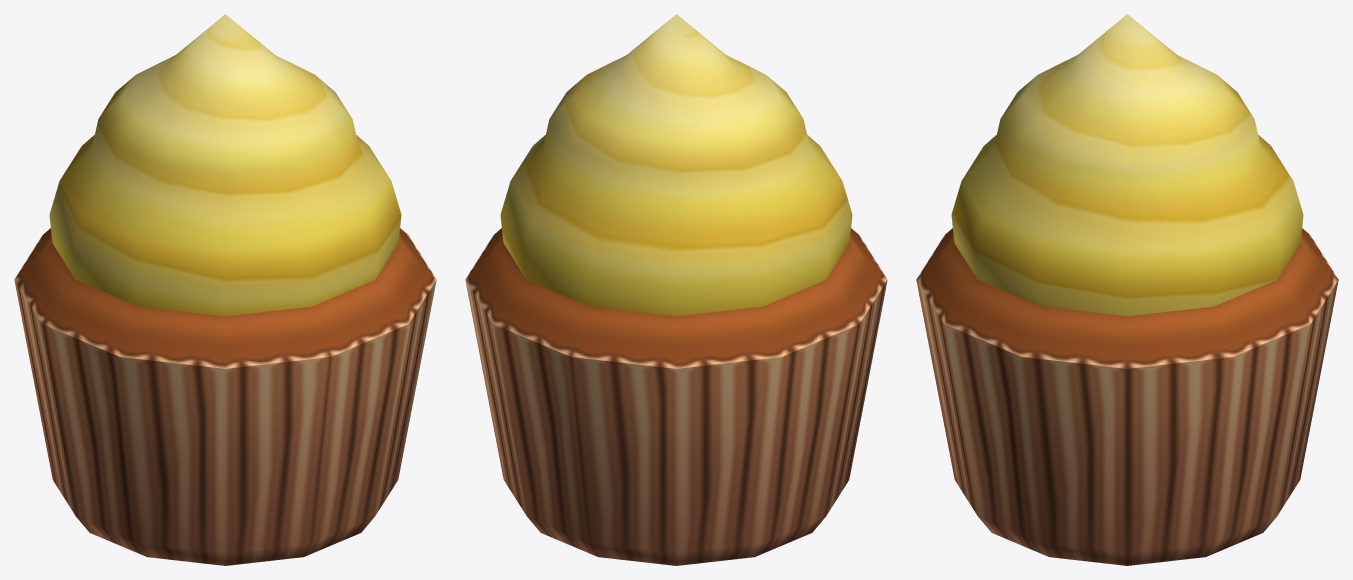
Rendered from 009-Cupcakes_008.FBX.
3 views of the same model, side by side, from view 1: azimuth 30°, elevation 25°; view 2: azimuth 150°, elevation 25°; view 3: azimuth 270°, elevation 25° (orthographic).
Parts seen in each view (by area): view 1: 009-Cupcakes_008; view 2: 009-Cupcakes_008; view 3: 009-Cupcakes_008.
Boxes of the visible parts, x1,y1,x2,y2 form: 009-Cupcakes_008: (14,14,436,565); 009-Cupcakes_008: (465,14,887,565); 009-Cupcakes_008: (916,14,1338,565).
Bounding box in the file's own units: 12.34 × 15.65 × 12.34.
